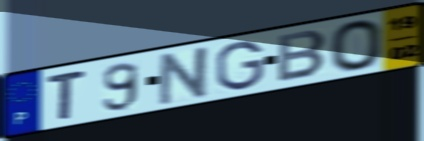9: (100, 61, 140, 113)
B: (275, 28, 330, 84)
G: (214, 39, 266, 92)
N: (156, 43, 214, 108)
O: (328, 18, 385, 74)
T: (44, 67, 88, 122)
